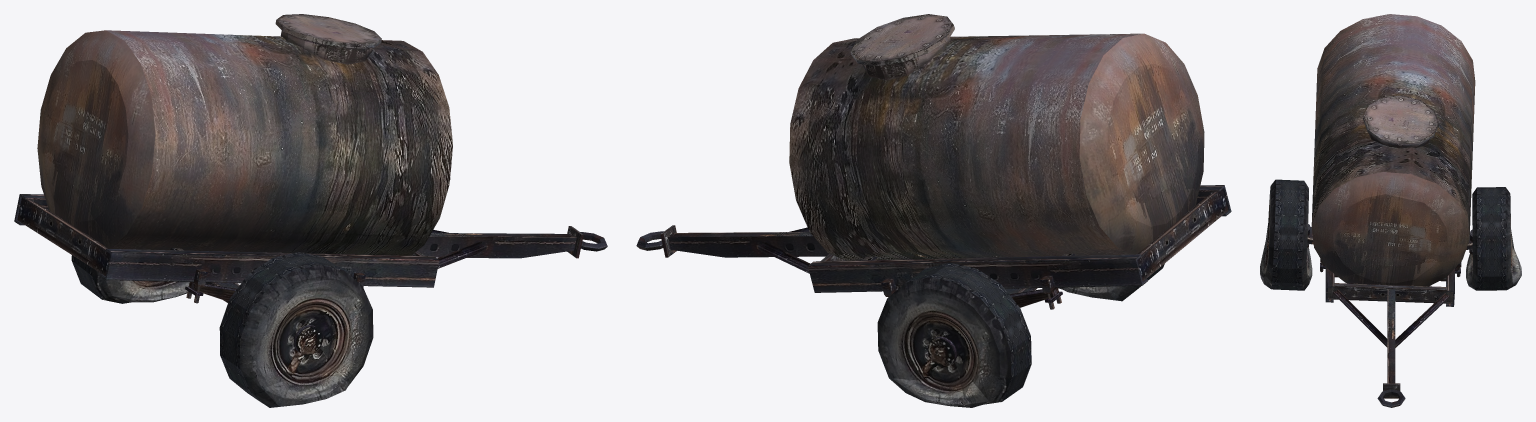
Rendered from tank_trailer.obj.
The picture shows the model from 3 angles, left to right: view 1: azimuth 30°, elevation 25°; view 2: azimuth 150°, elevation 25°; view 3: azimuth 270°, elevation 25°; orthographic projection. The views are drawn at different scales.
Visible parts, largest first — view 1: tank_trailer; view 2: tank_trailer; view 3: tank_trailer.
Part boxes in pixels (x1=…): tank_trailer: x1=14, y1=14, x2=607, y2=407; tank_trailer: x1=636, y1=14, x2=1231, y2=407; tank_trailer: x1=1260, y1=14, x2=1521, y2=407.
Size of the model in its own units: 3.95 by 2.23 by 2.31.
Materials: 1 (1 with a texture image).
